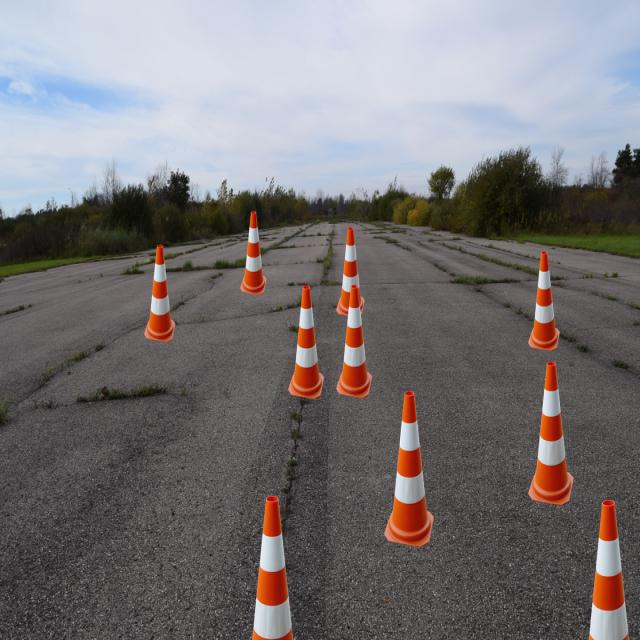cone: (240, 496, 303, 640), (576, 500, 640, 640), (384, 391, 434, 547), (336, 285, 372, 398), (288, 286, 324, 399), (528, 251, 560, 351), (145, 245, 176, 342), (336, 227, 365, 318), (240, 211, 267, 295)
